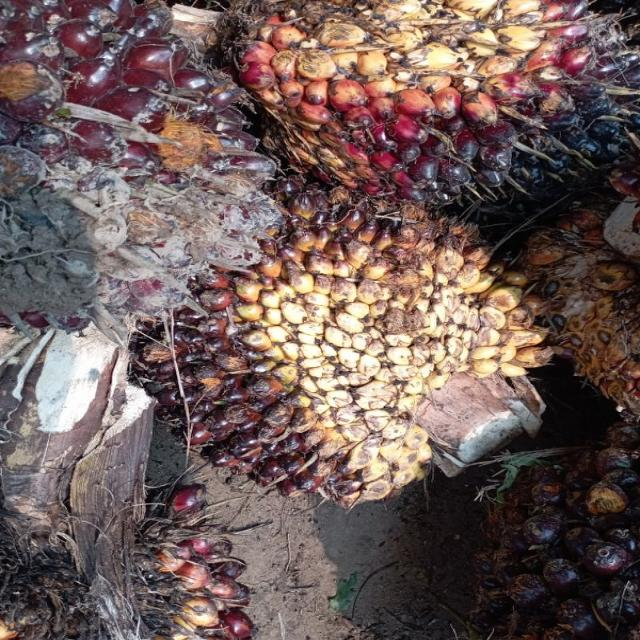fraksi 00: (146, 213, 568, 510), (247, 0, 640, 209)
